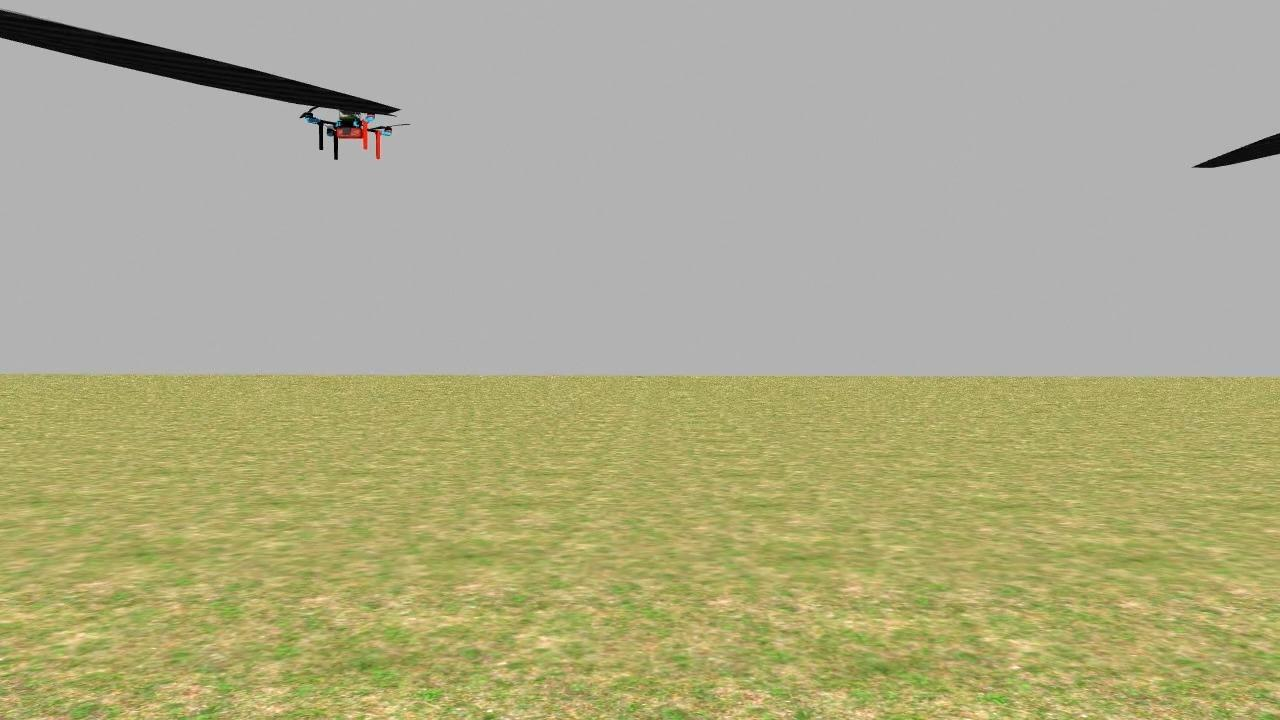UAV: (275, 82, 421, 174)
